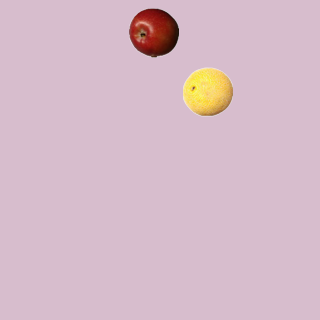Apple Braeburn: (128, 7, 178, 57)
Cantaloupe 1: (182, 66, 232, 116)
